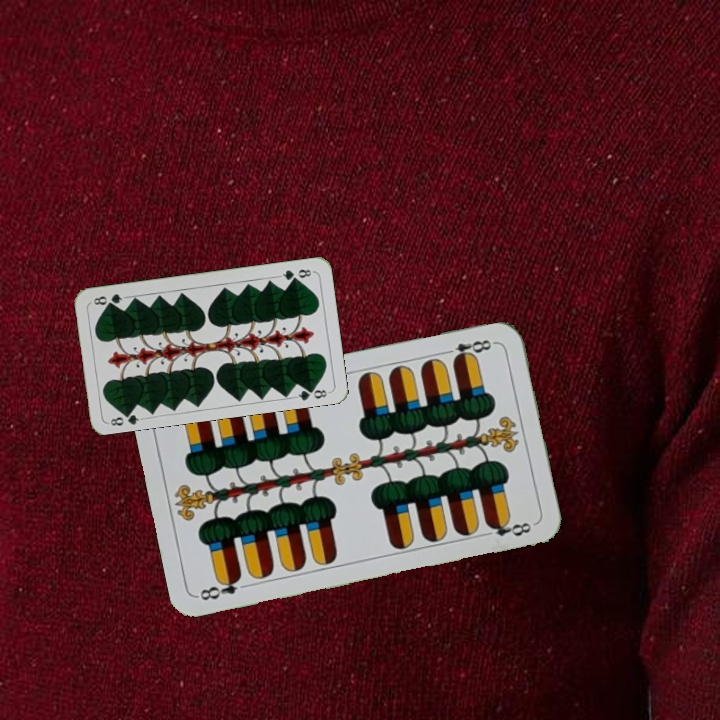E8: (439, 335, 498, 365), (194, 571, 244, 603)
G8: (105, 407, 145, 428), (275, 265, 316, 283)
